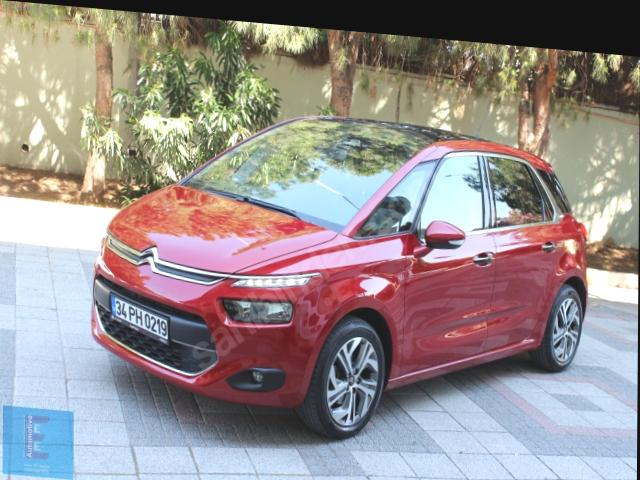plaka: (111, 296, 168, 343)
